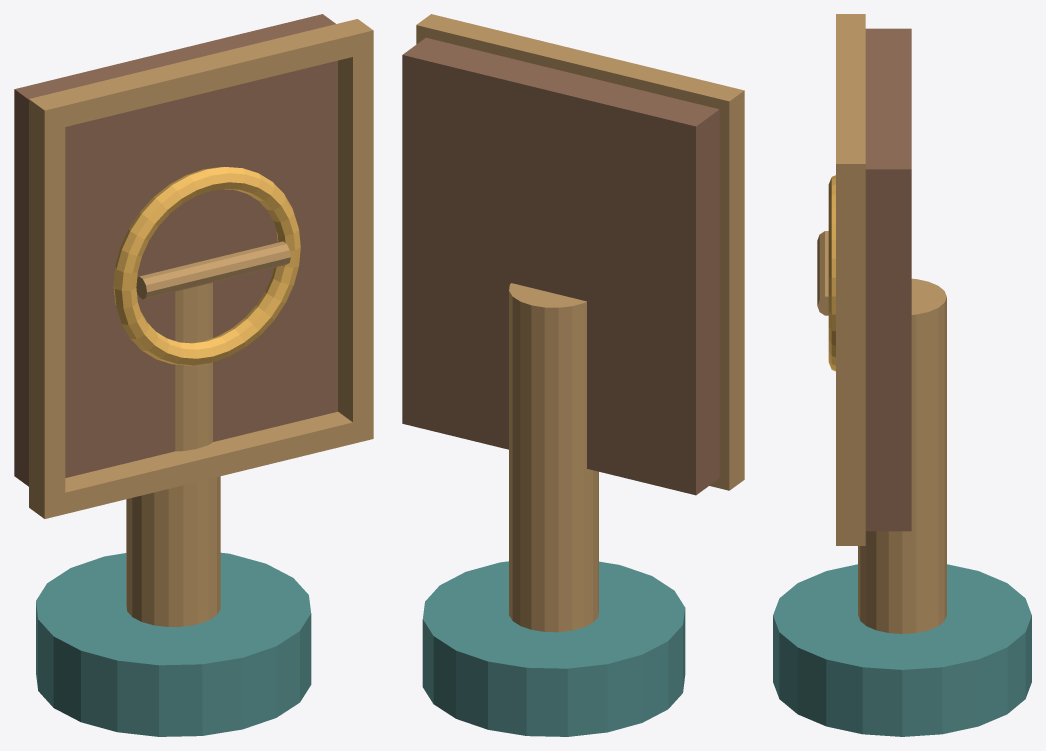
Rendered from FlyerPodium.glb.
3 views of the same model, side by side, from view 1: azimuth 30°, elevation 25°; view 2: azimuth 150°, elevation 25°; view 3: azimuth 270°, elevation 25° (orthographic). The views are drawn at different scales.
Parts seen in each view (by area): view 1: FlyerPodium; view 2: FlyerPodium; view 3: FlyerPodium.
Part boxes in pixels (<box>): FlyerPodium: <box>14,14,373,736</box>; FlyerPodium: <box>402,14,744,736</box>; FlyerPodium: <box>773,14,1031,736</box>.
Bounding box in the file's own units: 0.96 × 1.77 × 0.7.
